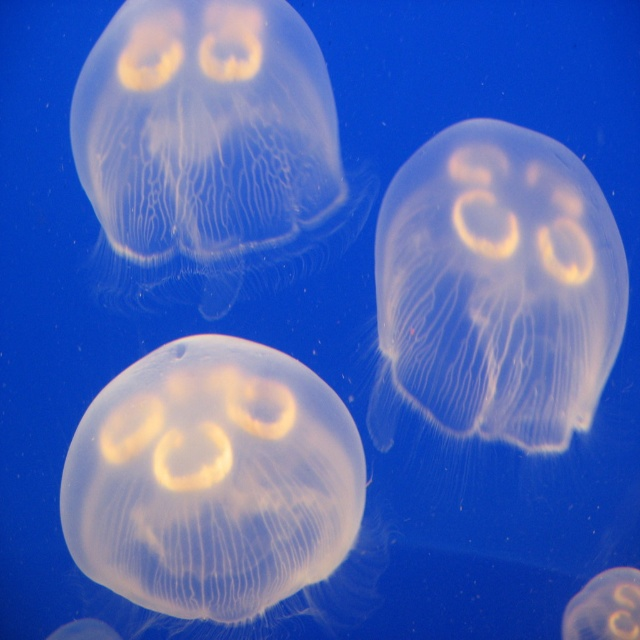Jellyfish: (353, 119, 631, 513), (65, 0, 380, 323), (59, 333, 365, 639), (560, 570, 640, 639)
